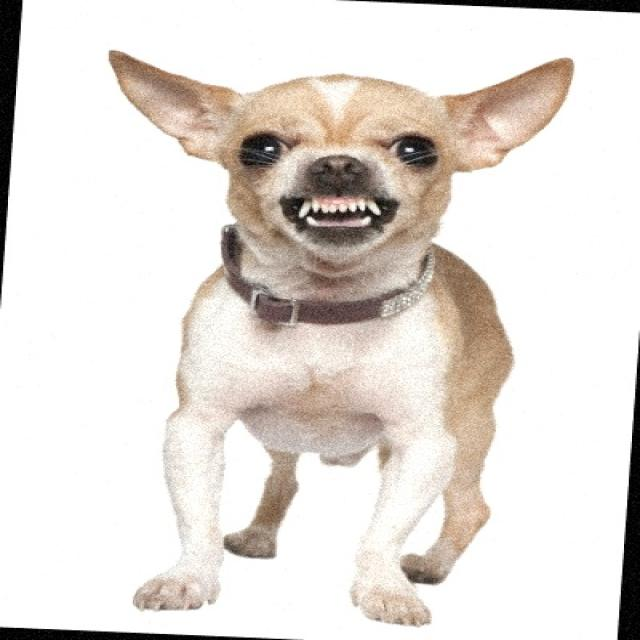angry: (85, 23, 571, 626)
